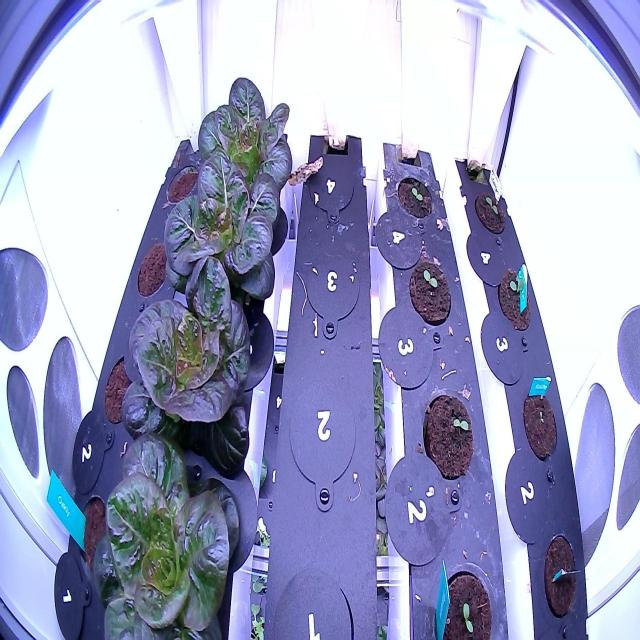empty_pod: (285, 369, 361, 512), (261, 549, 359, 639), (304, 238, 364, 332), (307, 152, 358, 230)
germination: (420, 388, 477, 488), (431, 560, 497, 636), (406, 256, 453, 332), (520, 382, 559, 466), (496, 261, 534, 335), (393, 171, 437, 224), (472, 184, 510, 238)
pod: (100, 341, 145, 433), (70, 488, 116, 577), (540, 528, 582, 624), (132, 235, 173, 305), (163, 156, 201, 212)
young: (110, 243, 262, 497), (89, 420, 248, 640), (157, 140, 282, 336), (190, 70, 296, 212)
